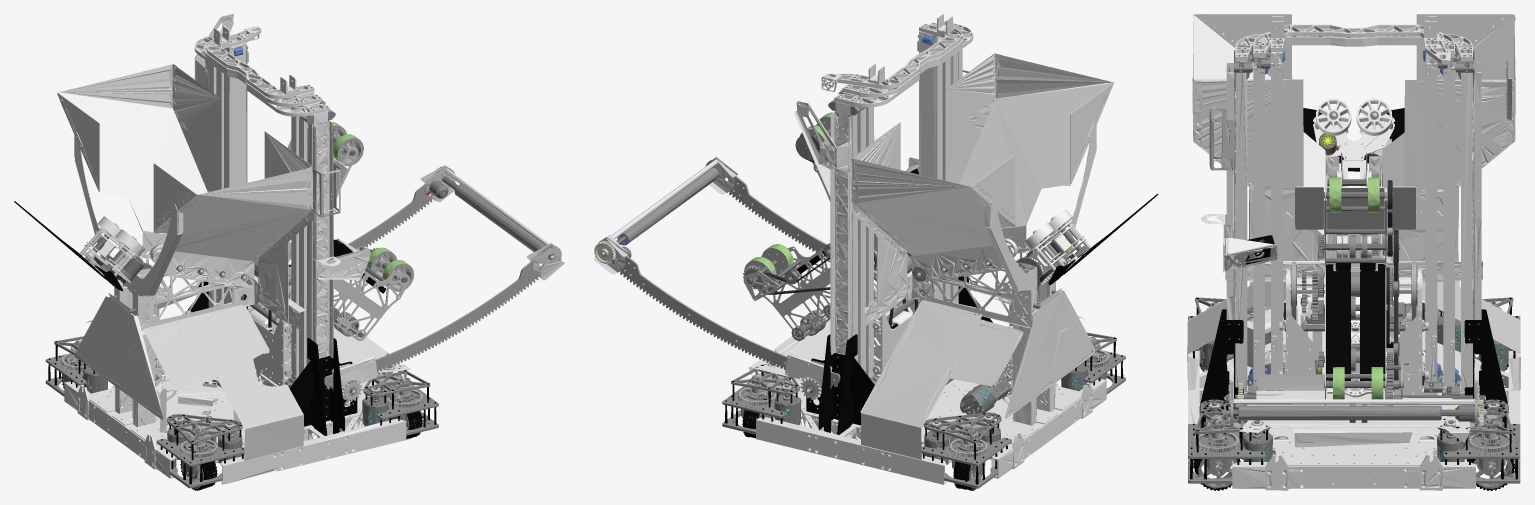
Rendered from singularity-1706.glb.
3 renders of one model, left to right at view 1: azimuth 30°, elevation 25°; view 2: azimuth 150°, elevation 25°; view 3: azimuth 270°, elevation 25°, orthographic. The views are drawn at different scales.
Visible parts, largest first — view 1: frame, intake, elevator-stage-2, effector, climber, elevator-stage, carriage; view 2: frame, intake, elevator-stage-2, effector, elevator-stage, climber, carriage; view 3: frame, effector, elevator-stage-2, elevator-stage, carriage, intake, climber.
Boxes of the visible parts, x1,y1,x2,y2 form: frame: (45, 14, 438, 490); intake: (324, 165, 564, 401); elevator-stage-2: (206, 26, 314, 388); effector: (254, 121, 413, 340); climber: (14, 201, 168, 299); elevator-stage: (203, 34, 325, 386); carriage: (223, 275, 292, 385); frame: (722, 21, 1125, 490); intake: (593, 157, 840, 399); elevator-stage-2: (824, 14, 960, 384); effector: (743, 112, 911, 341); elevator-stage: (838, 22, 963, 372); climber: (1000, 193, 1158, 294); carriage: (872, 252, 942, 377); frame: (1187, 14, 1520, 490); effector: (1295, 177, 1415, 422); elevator-stage-2: (1265, 16, 1447, 395); elevator-stage: (1247, 30, 1460, 395); carriage: (1279, 261, 1428, 394); intake: (1223, 359, 1486, 428); climber: (1303, 98, 1404, 187).
Bounding box in the file's own units: 1.27 × 0.986 × 0.7128.
